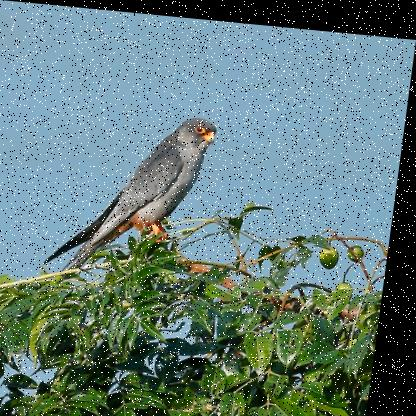Burung: (41, 98, 222, 293)
